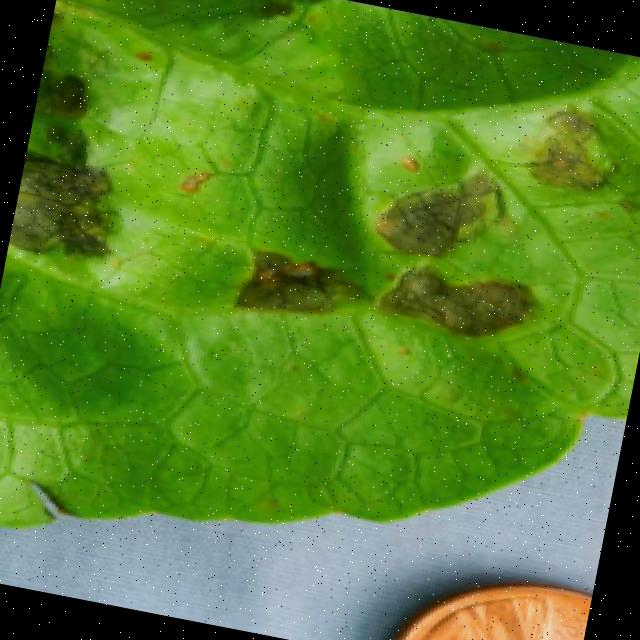Bacterial: (3, 5, 640, 408)
